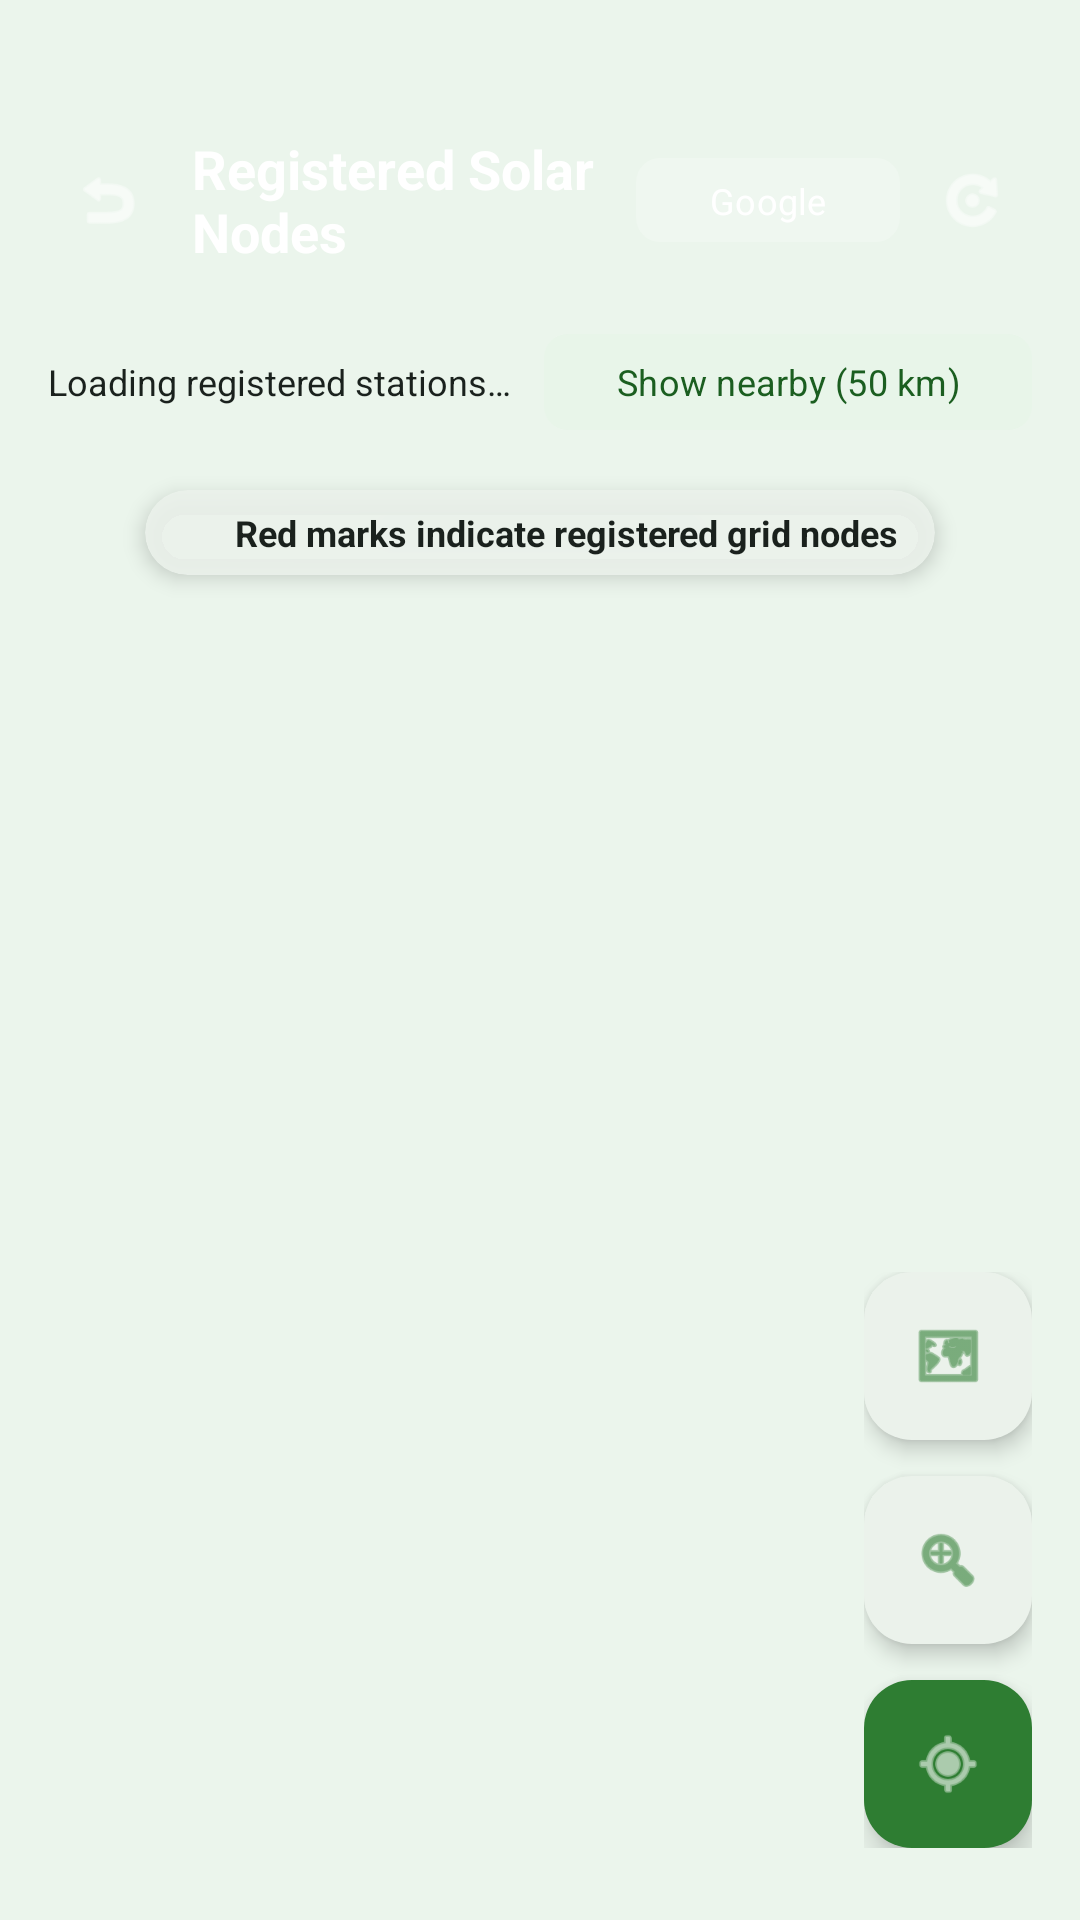

Named icons in this screenshot (1080px x 1920px) and their bounding boxes, (x1, y1, x2, y2):
My Location: (864, 1680, 1032, 1848)
